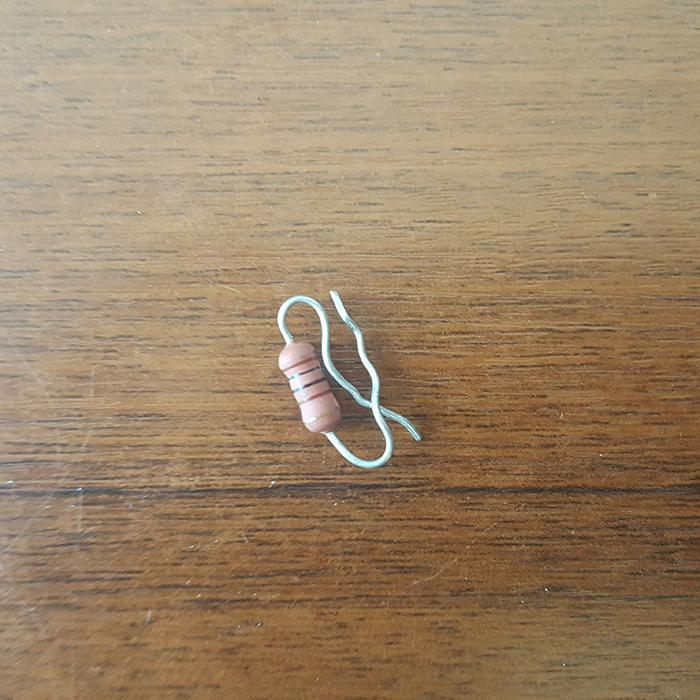resistor: (277, 338, 341, 432)
